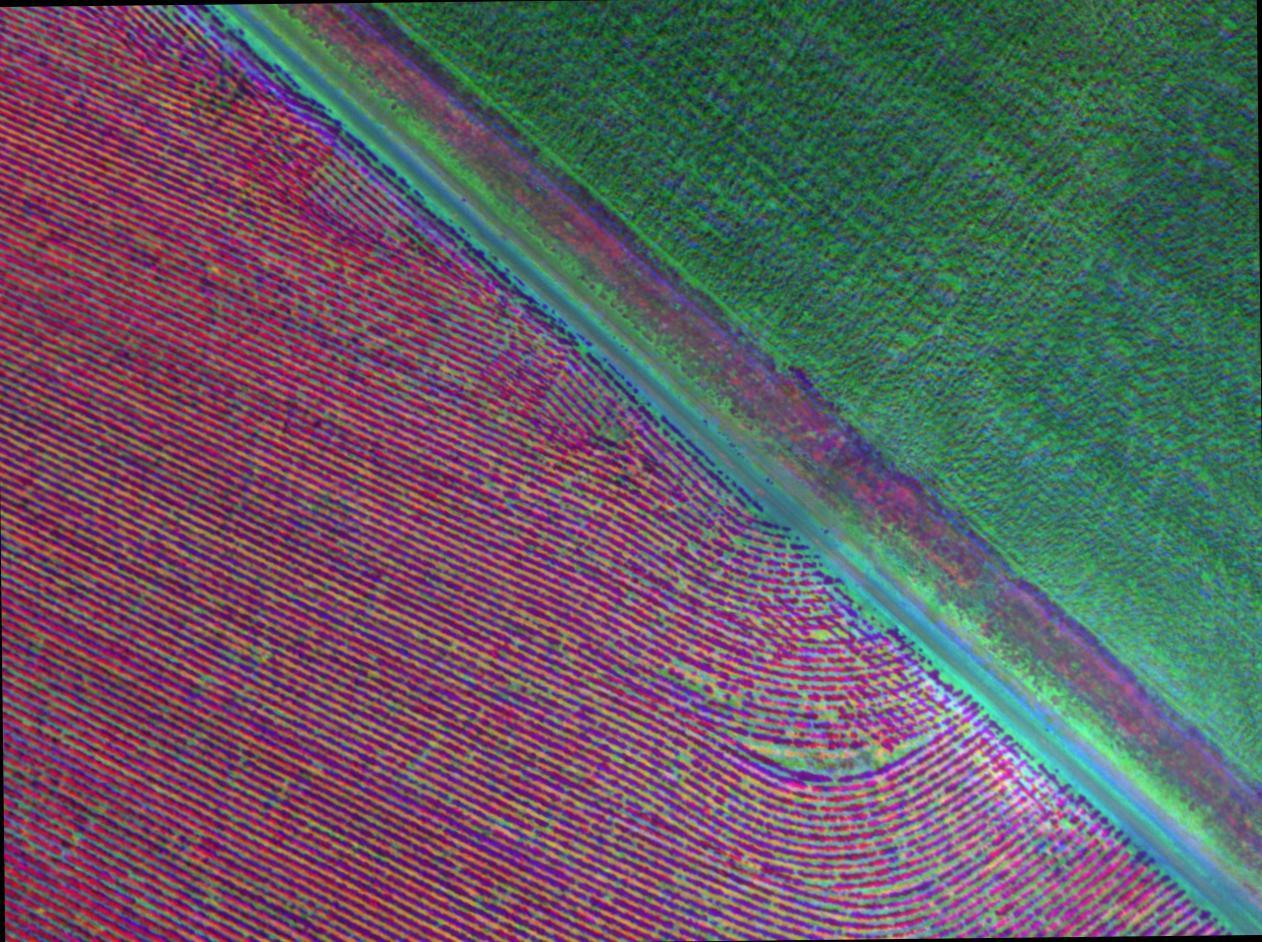dc: (731, 720, 948, 784), (778, 845, 960, 911), (778, 568, 892, 653), (663, 633, 762, 708), (961, 748, 1038, 812)
